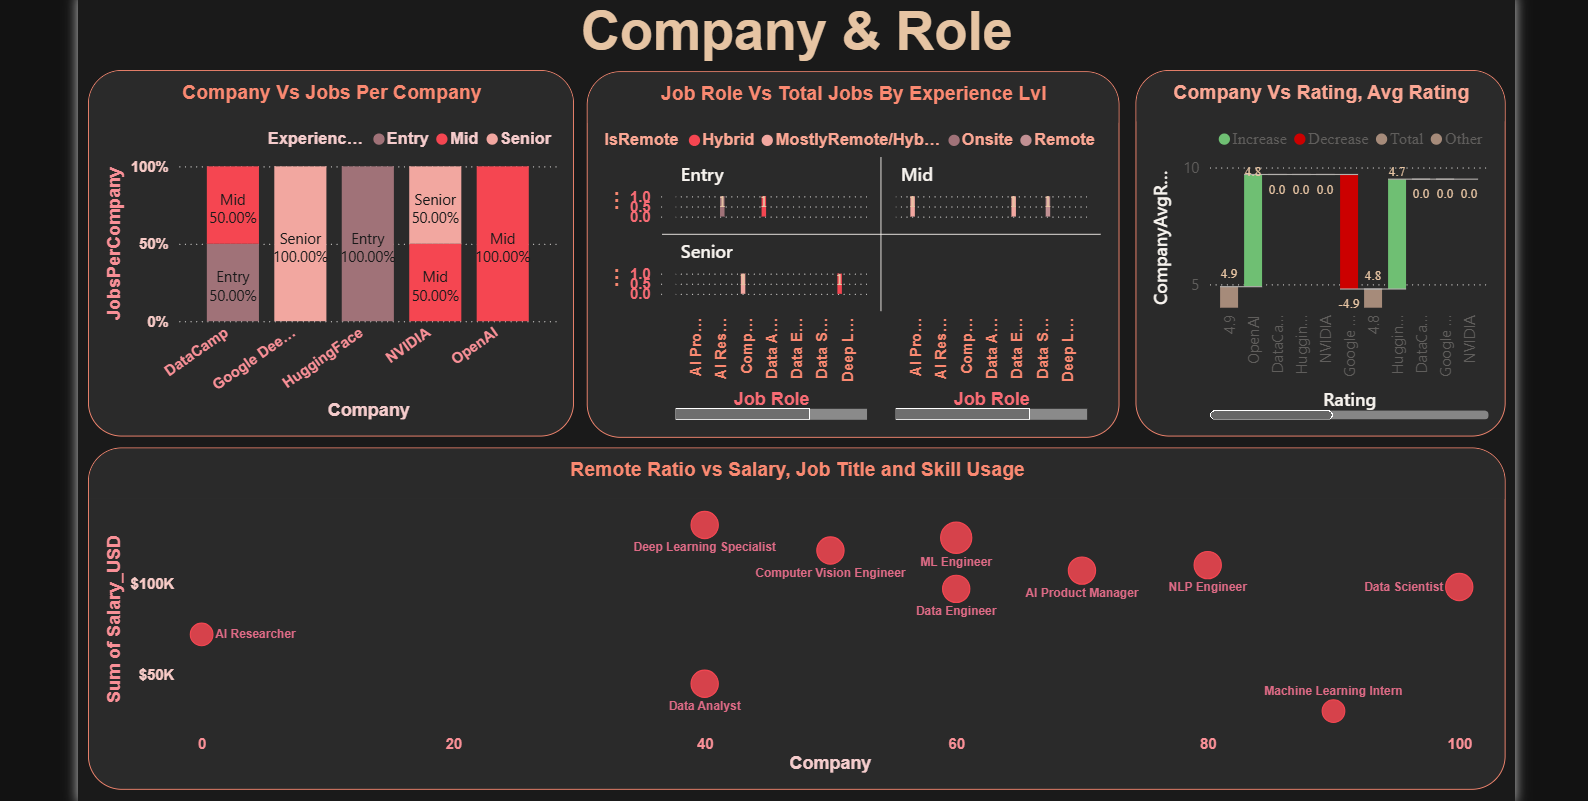

This screenshot's page, from the dashboard's own definition file:
{"tool":"powerbi","page":{"name":"Company & Role insights","canvas":[1280,720],"ordinal":2},"visuals":[{"type":"hundredPercentStackedColumnChart","title":"Company Vs Jobs Per Company","fields":{"Category":["Dim_Companies.Company_Name"],"Y":["Dim_Companies.JobsPerCompany"],"Series":["Fact_Jobs.Experience_Level"]},"box":[0,66.8,442.2,326.1],"z":0},{"type":"textbox","box":[0,0,1280.4,79.5],"z":1000},{"type":"clusteredColumnChart","title":"Job Role Vs Total Jobs By Experience Lvl","fields":{"Category":["Fact_Jobs.Job_Title"],"Y":["Fact_Jobs.TotalJobs"],"Series":["Fact_Jobs.IsRemote"],"Rows":["Fact_Jobs.Experience_Level"]},"box":[454.9,66.8,474,326.1],"z":2000},{"type":"waterfallChart","title":"Company Vs Rating, Avg Rating","fields":{"Breakdown":["Dim_Companies.Company_Name"],"Y":["Dim_Companies.CompanyAvgRating"],"Category":["Dim_Companies.Rating"]},"box":[941.6,66.8,338.8,326.1],"z":3000},{"type":"scatterChart","title":"Remote Ratio vs Salary,  Job Title and Skill Usage","fields":{"Category":["Fact_Jobs.Job_Title"],"X":["Sum(Fact_Jobs.Remote_Ratio)"],"Y":["Sum(Fact_Jobs.Salary_USD)"],"Size":["Dim_Skills.SkillUsageCount"]},"box":[0,393.3,1280,311.3],"z":4000}]}

Visuals, with their boxes on the page's 1280x720 design canvas (x1, y1, x2, y2). These are canvas units, not pixel positions in the 1588x801 screenshot, which may show the page scaled, cropped or inside an application window:
"Company Vs Jobs Per Company" hundredPercentStackedColumnChart: (x1=0, y1=67, x2=442, y2=393)
textbox: (x1=0, y1=0, x2=1280, y2=80)
"Job Role Vs Total Jobs By Experience Lvl" clusteredColumnChart: (x1=455, y1=67, x2=929, y2=393)
"Company Vs Rating, Avg Rating" waterfallChart: (x1=942, y1=67, x2=1280, y2=393)
"Remote Ratio vs Salary,  Job Title and Skill Usage" scatterChart: (x1=0, y1=393, x2=1280, y2=705)
